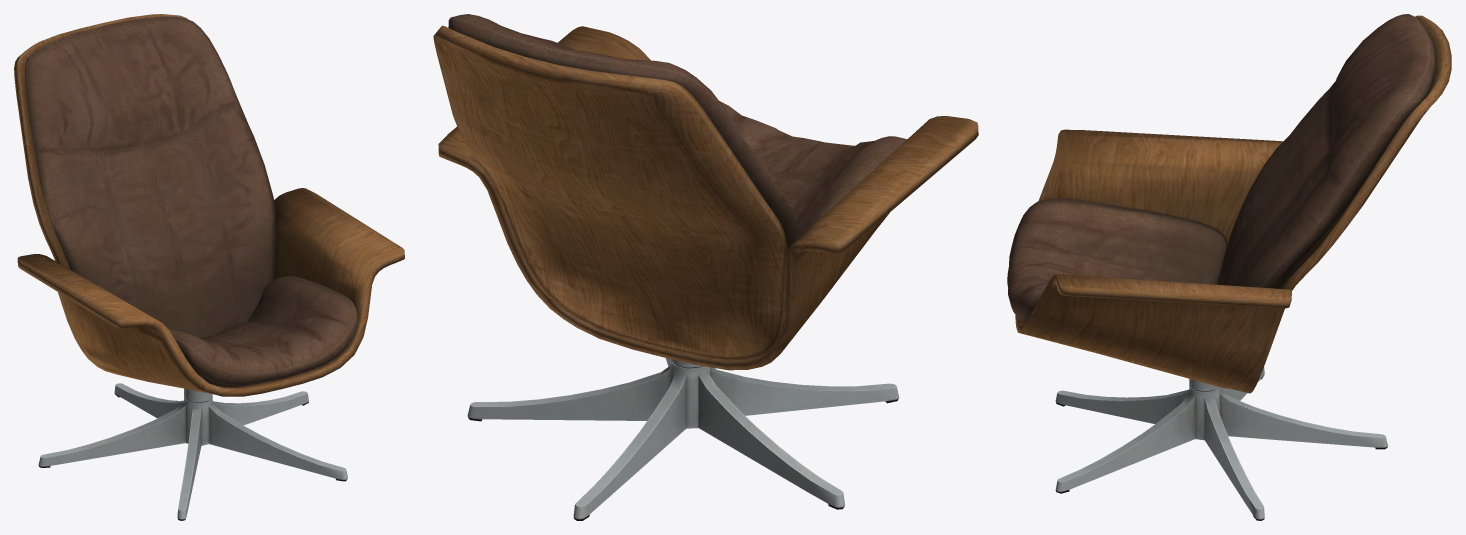
File: mid_century_lounge_chair.glb
3 views of the same model, side by side, from view 1: azimuth 30°, elevation 25°; view 2: azimuth 150°, elevation 25°; view 3: azimuth 270°, elevation 25° (orthographic). The views are drawn at different scales.
Visible parts, largest first — view 1: mid_century_lounge_chair; view 2: mid_century_lounge_chair; view 3: mid_century_lounge_chair.
Boxes of the visible parts, x1,y1,x2,y2 form: mid_century_lounge_chair: (14, 14, 404, 520); mid_century_lounge_chair: (433, 14, 978, 520); mid_century_lounge_chair: (1007, 14, 1451, 520).
Bounding box in the file's own units: 1.01 × 1.17 × 1.19.
Materials: 1 (1 with a texture image).
